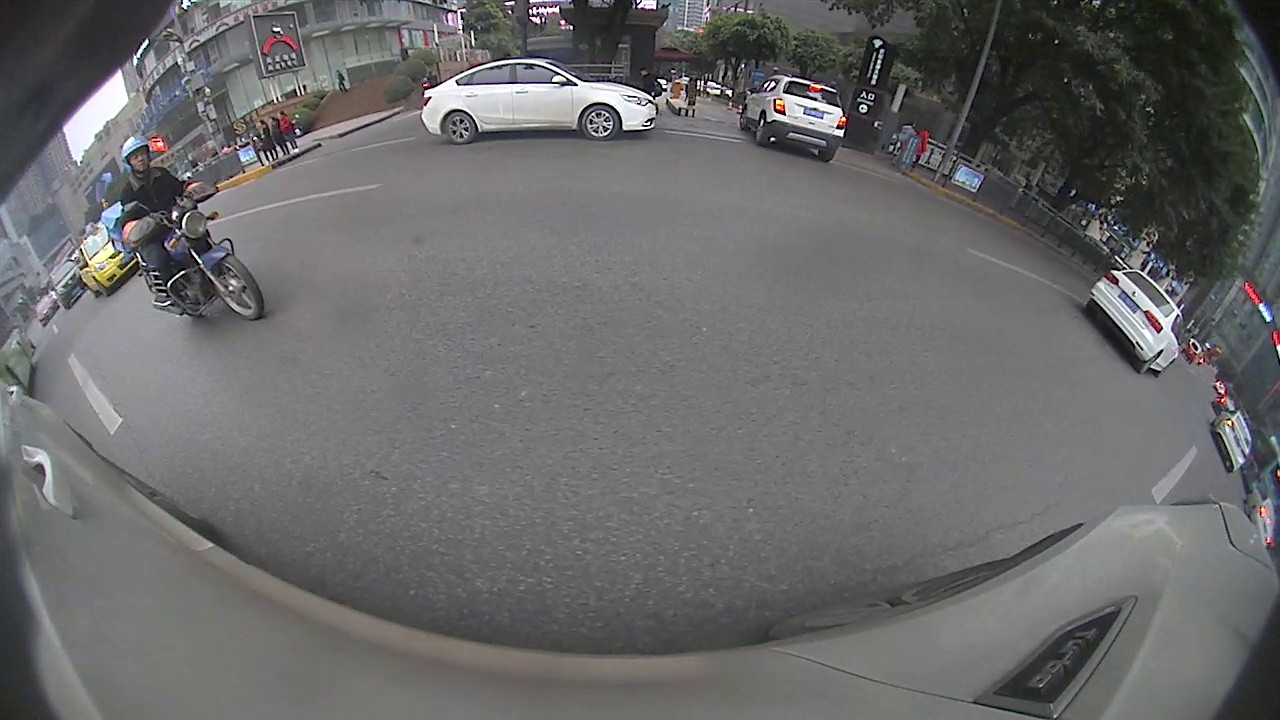car: (419, 57, 661, 146), (1086, 268, 1185, 378), (738, 72, 847, 163), (77, 233, 141, 298), (1209, 407, 1255, 475)
front: (202, 249, 261, 324), (581, 106, 621, 144)
rear: (443, 116, 474, 144), (1140, 349, 1164, 376), (754, 113, 767, 144)
rider: (117, 133, 266, 324)
